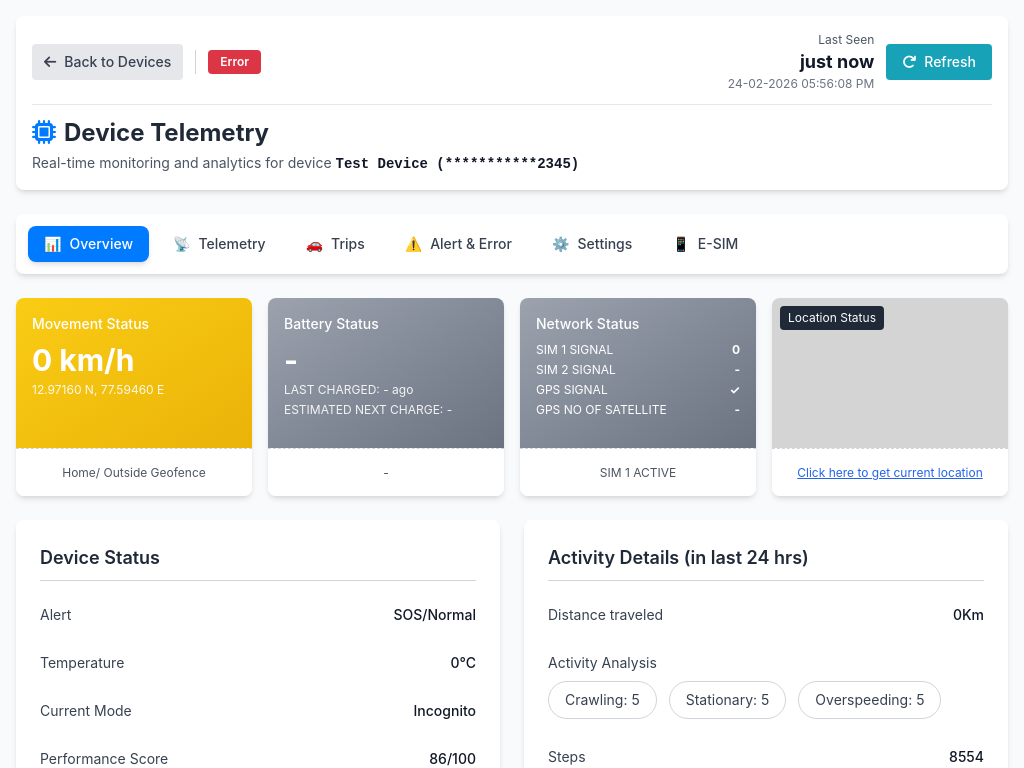
Test: Bug Condition Exploration: Ambient Listen Toggle Status › should set toggle to OFF when API returns AMBIENT_STOP with "Stop" payload
Navigate to Settings tab
Click the button "⚙️ Settings". click: {"x": 592, "y": 244}
box: [536,226,648,262]
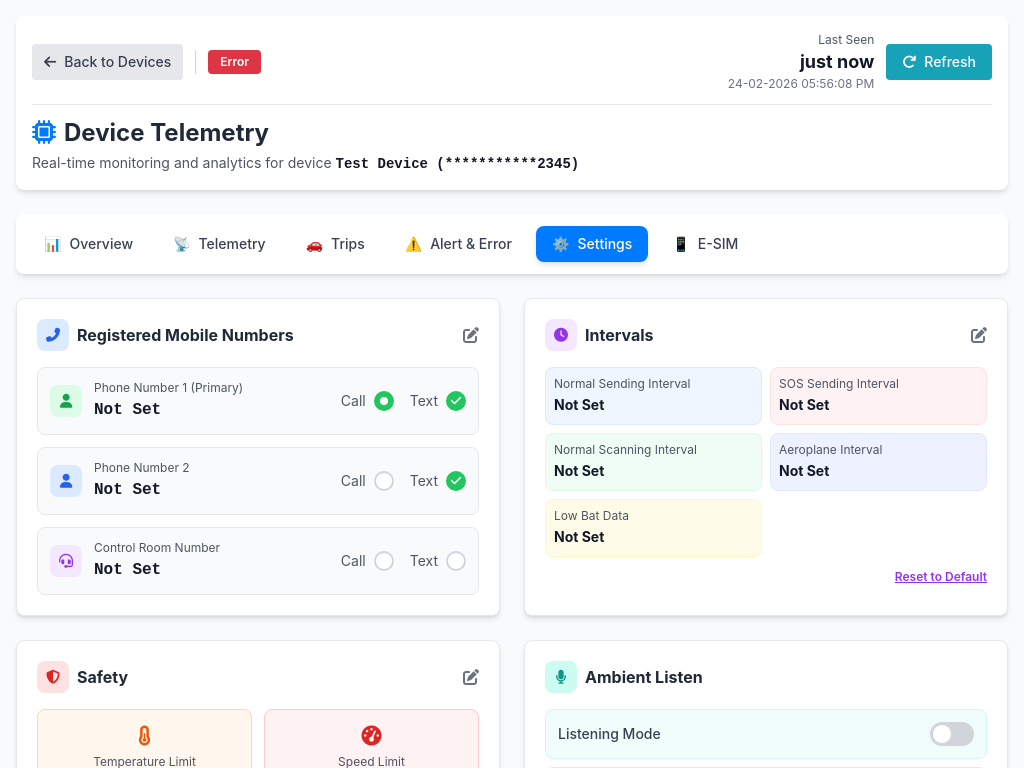
Check: the text "Listening Mode" is shown, box [558,724,661,744]
Check: the checkbox is not checked, box [930,722,974,746]
